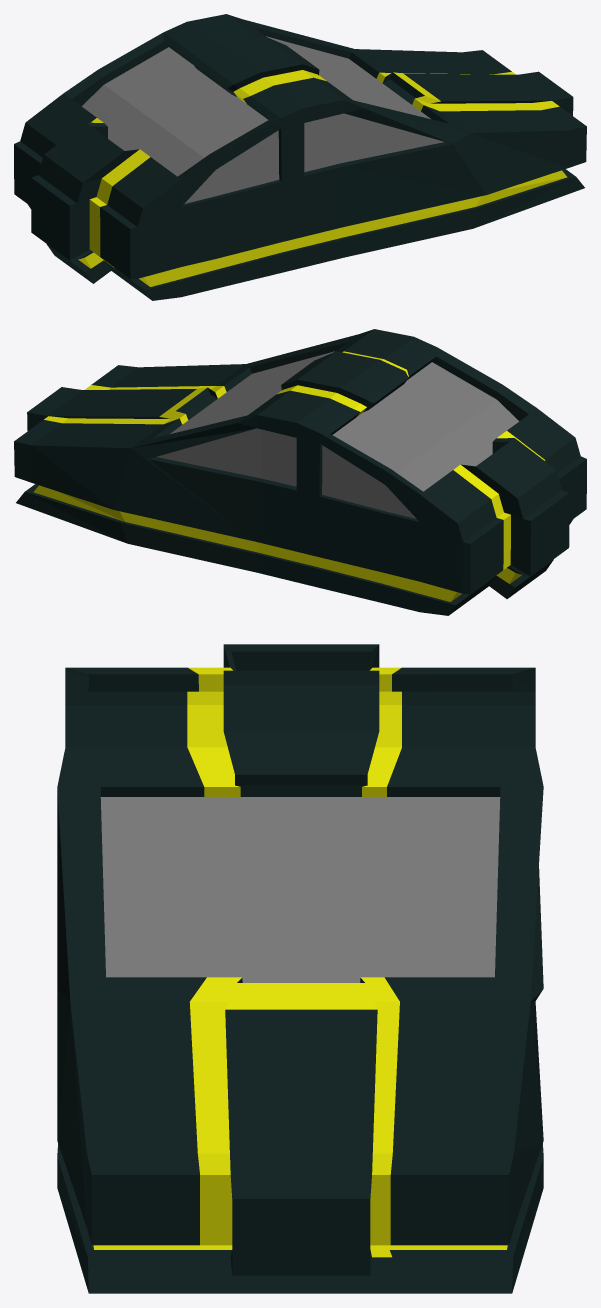
The model's file is Car.fbx.
3 views of the same model, one above another, from view 1: azimuth 30°, elevation 25°; view 2: azimuth 150°, elevation 25°; view 3: azimuth 270°, elevation 25° (orthographic). The views are drawn at different scales.
Visible parts, largest first — view 1: pCube2; view 2: pCube2; view 3: pCube2.
Boxes of the visible parts, x1,y1,x2,y2 form: pCube2: [14, 14, 586, 300]; pCube2: [14, 329, 586, 615]; pCube2: [57, 644, 543, 1293].
Size of the model in its own units: 3.27 by 1.05 by 1.36.
